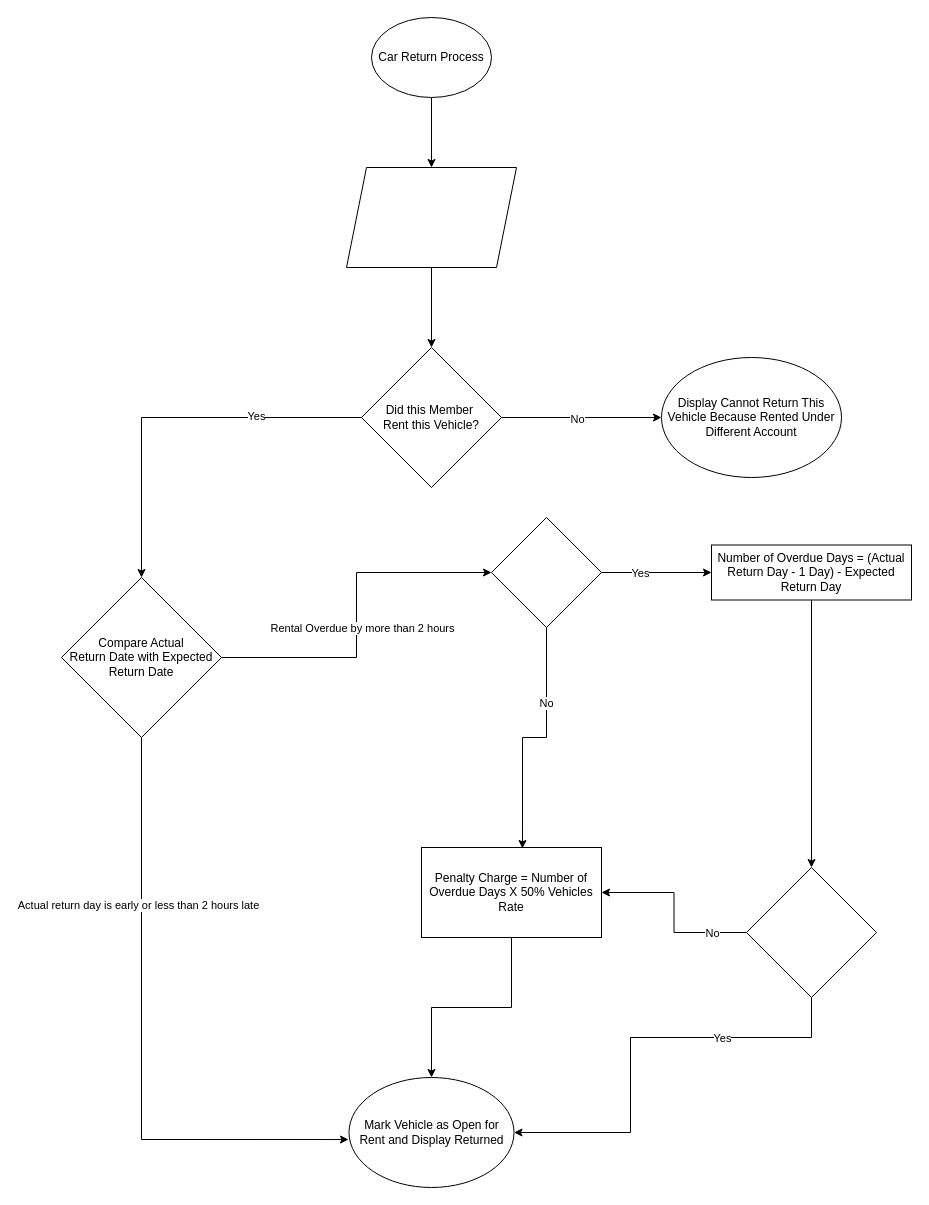
This 929x1205 diagram has some shape labels left out. The box of each missing label's shape, as (x1, y1, x2, y2) in pixels:
Enter Returning Vehicle Number Enter Member ID Number: (346, 166, 516, 268)
If Number of Overdue days = 0 after 1 day grace period: (746, 866, 876, 998)
Member has Premium?: (490, 516, 602, 628)
